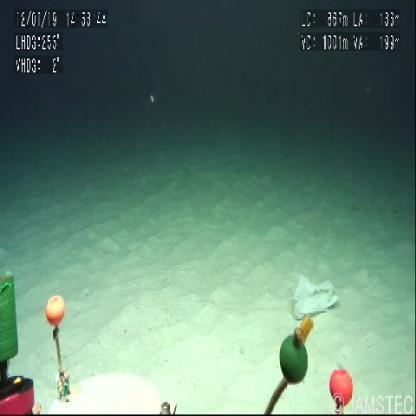Rác: (293, 276, 340, 322)
